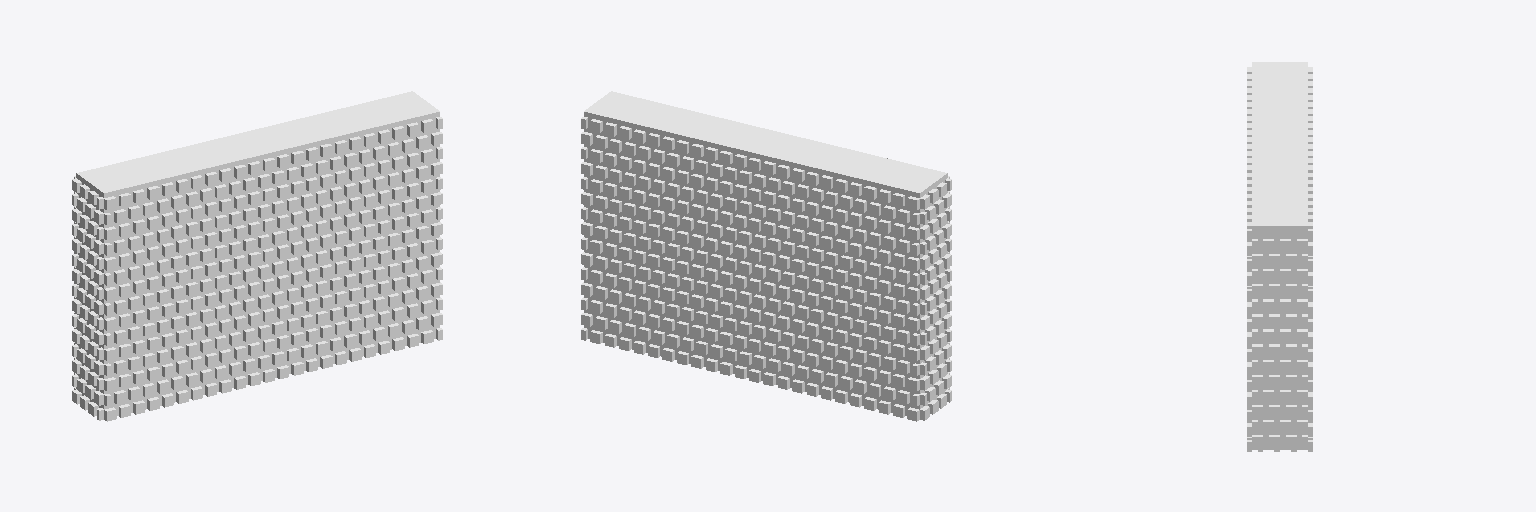
Rendered from one_side_wall_h24_sq_1.0.obj.
3 renders of one model, left to right at view 1: azimuth 30°, elevation 25°; view 2: azimuth 150°, elevation 25°; view 3: azimuth 270°, elevation 25°, orthographic.
Parts seen in each view (by area): view 1: object 1; view 2: object 1; view 3: object 1.
Part boxes in pixels (left/top/right/bottom): object 1: left=72, top=91, right=442, bottom=421; object 1: left=581, top=91, right=951, bottom=421; object 1: left=1247, top=62, right=1312, bottom=451.
Bounding box in the file's own units: 7.1 × 4.5 × 1.2.